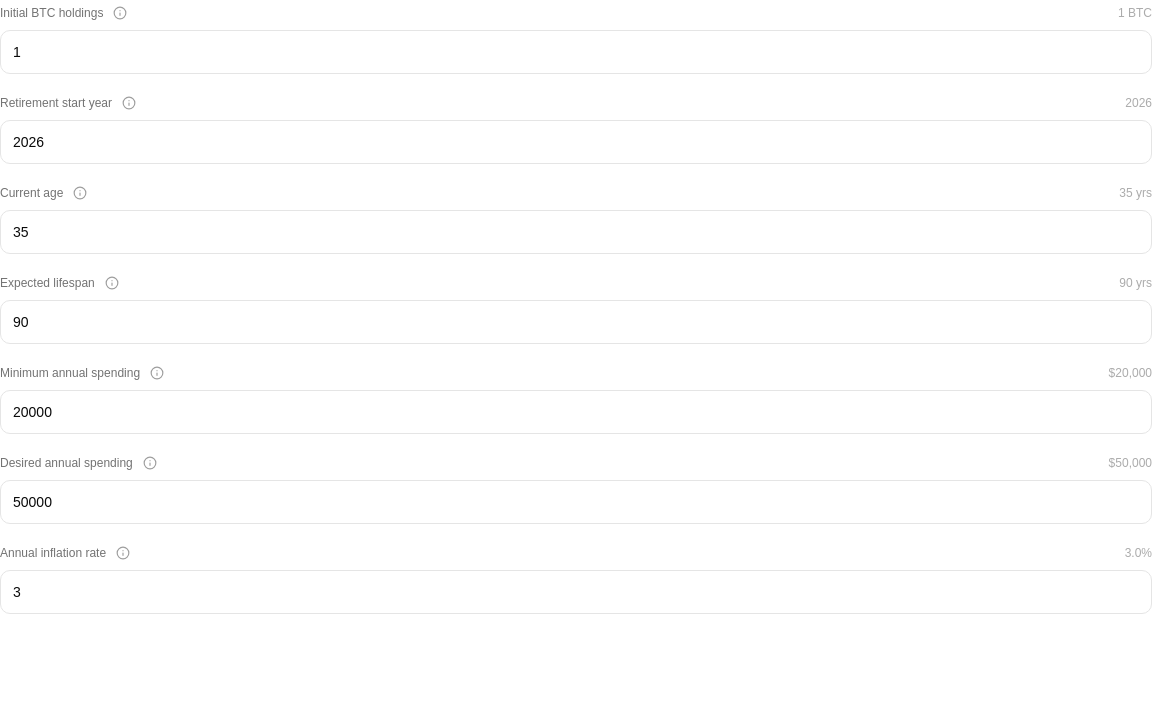
ParameterPanel › opening an info popover does not change parameter values
Step 1. Click the button named "About Initial BTC holdings" → (120, 13), box [107,0,133,26]
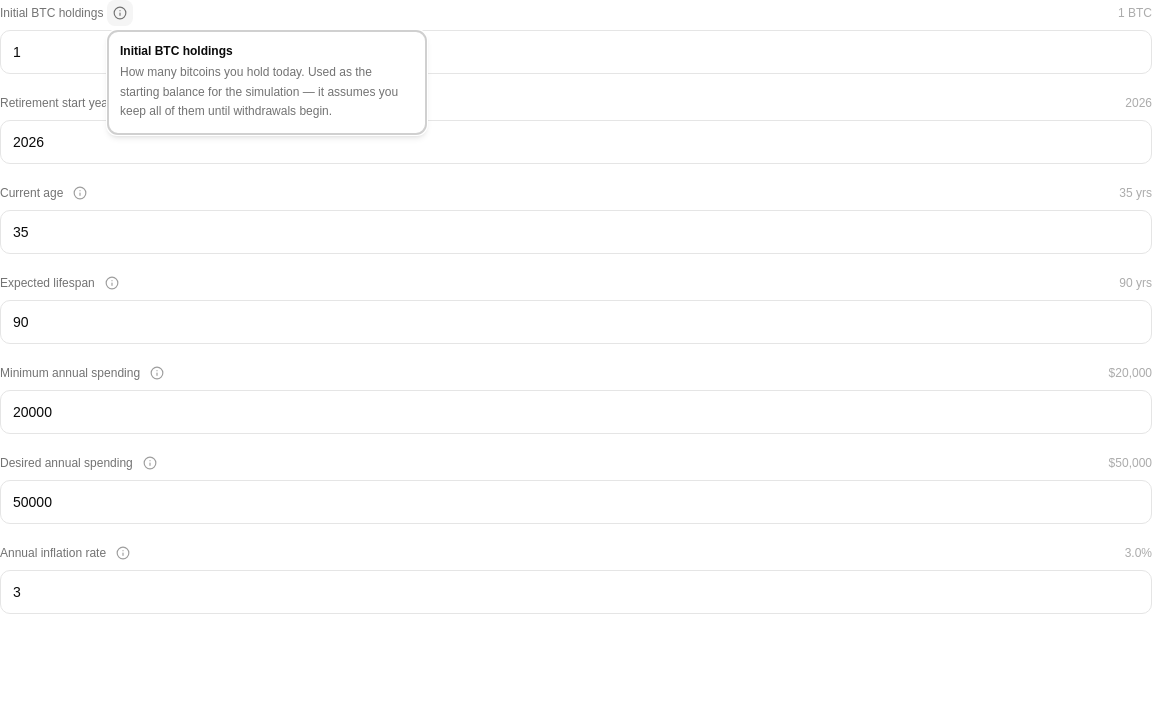
Expected: the number field named "Initial BTC holdings value" holds "1", [0,30,1151,74]
Expected: the text "How many bitcoins you hold today" is shown, [120,65,398,118]
